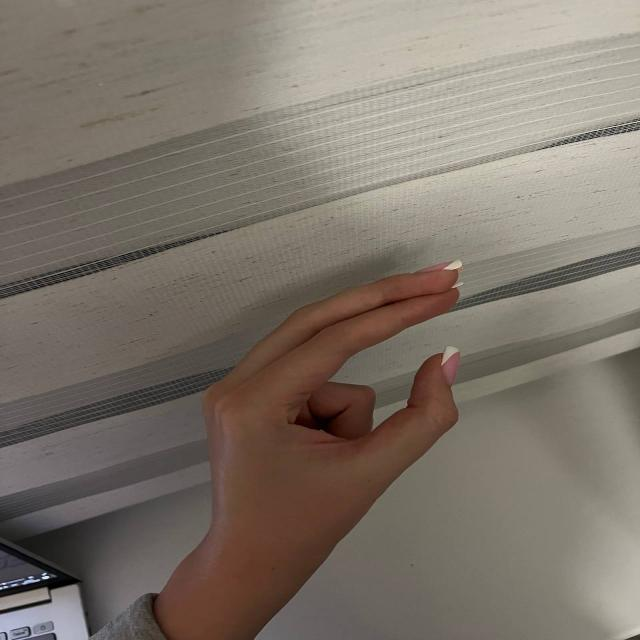ia: (153, 253, 491, 535)
